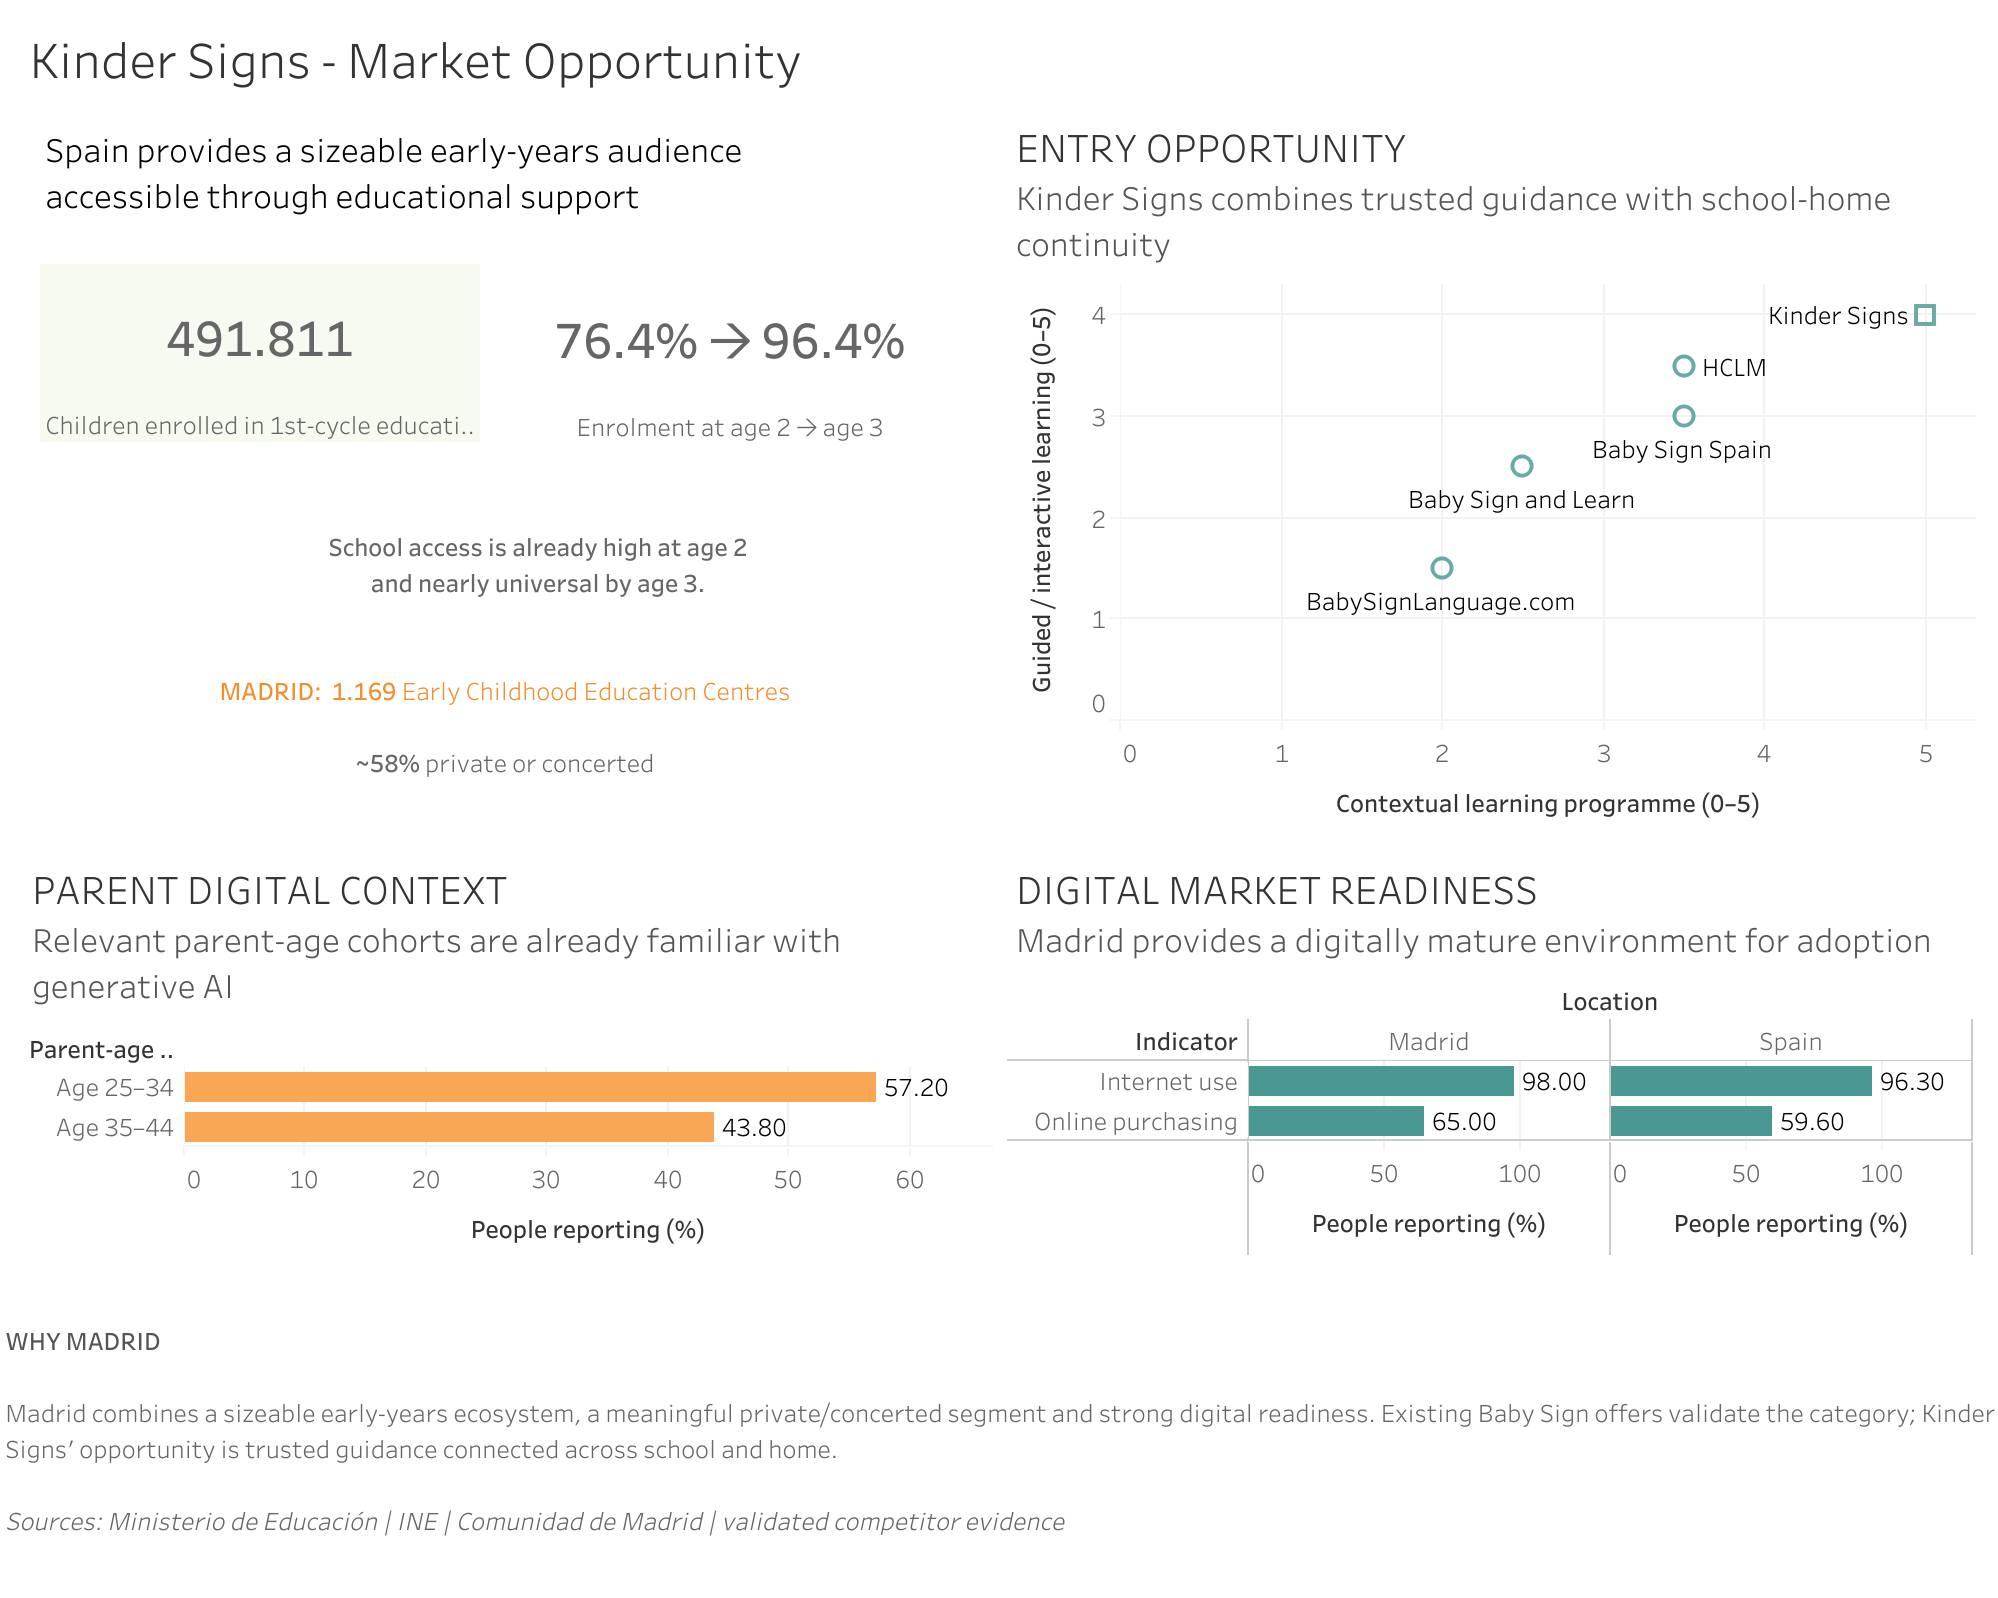

Layout of this report page (visuals, bound fields, positions):
{"tool":"tableau","page":{"name":"Kinder Signs — Market Opportunity & Pilot Readiness","canvas":[1000,800],"ordinal":0},"visuals":[{"type":"title","box":[8,8,984,42]},{"type":"text","box":[8,50,492,371]},{"type":"blank","box":[8,50,492,371]},{"type":"blank","box":[8,50,492,371]},{"type":"worksheet","title":"The gap is contextual school-home learning","mark":"Automatic","rows":["y_guided_interactive_0_5"],"cols":["x_contextual_learning_0_5"],"box":[500,50,492,371]},{"type":"text","box":[20,62,460,48]},{"type":"text","box":[20,65,468,65]},{"type":"text","box":[70,70,100,30]},{"type":"text","box":[20,132,220,89]},{"type":"text","box":[255,132,220,92]},{"type":"text","box":[20,140,145,105]},{"type":"text","box":[176,140,145,105]},{"type":"text","box":[332,140,145,105]},{"type":"text","box":[20,210,145,35]},{"type":"text","box":[176,210,145,35]},{"type":"text","box":[332,210,145,45]},{"type":"text","box":[159,246,220,72]},{"type":"text","box":[20,270,460,22]},{"type":"text","box":[25,286,455,135]},{"type":"worksheet","title":"Parent-age proxies show strong GenAI familiarity","mark":"Automatic","rows":["segment"],"cols":["value"],"box":[8,421,492,371]},{"type":"worksheet","title":"Madrid is digitally ready for a low-friction pilot","mark":"Automatic","rows":["metric"],"cols":["geography","value"],"box":[500,421,492,371]},{"type":"text","box":[0,640,1000,150]}]}

Visuals, with their boxes in screenshot pixels (x1, y1, x2, y2), scaled from the page's 1000x800 canvas onto the 1998x1598 screenshot:
title: detection(16, 16, 1982, 100)
text: detection(16, 100, 999, 841)
blank: detection(16, 100, 999, 841)
blank: detection(16, 100, 999, 841)
"The gap is contextual school-home learning" worksheet: detection(999, 100, 1982, 841)
text: detection(40, 124, 959, 220)
text: detection(40, 130, 975, 260)
text: detection(140, 140, 340, 200)
text: detection(40, 264, 480, 441)
text: detection(509, 264, 949, 447)
text: detection(40, 280, 330, 489)
text: detection(352, 280, 641, 489)
text: detection(663, 280, 953, 489)
text: detection(40, 419, 330, 489)
text: detection(352, 419, 641, 489)
text: detection(663, 419, 953, 509)
text: detection(318, 491, 757, 635)
text: detection(40, 539, 959, 583)
text: detection(50, 571, 959, 841)
"Parent-age proxies show strong GenAI familiarity" worksheet: detection(16, 841, 999, 1582)
"Madrid is digitally ready for a low-friction pilot" worksheet: detection(999, 841, 1982, 1582)
text: detection(0, 1278, 1997, 1578)
